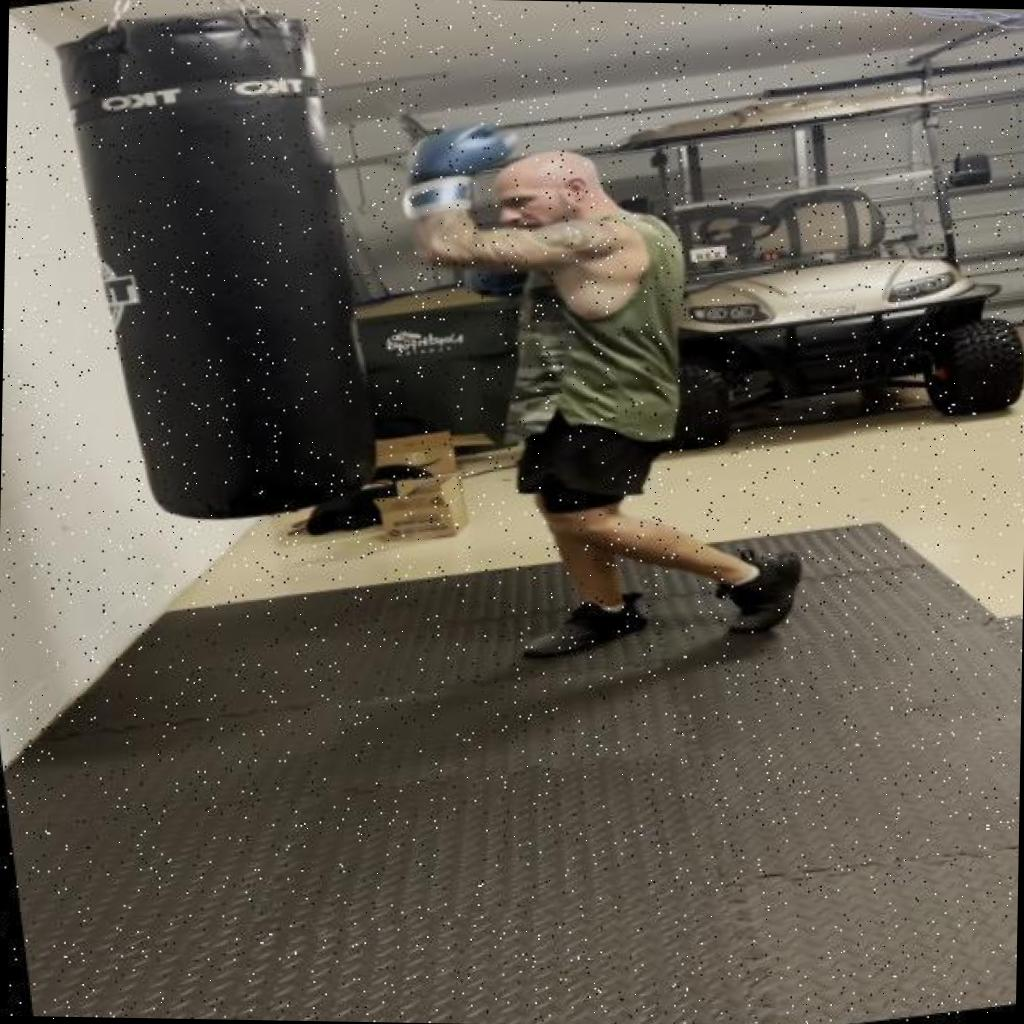bag: (62, 0, 389, 551)
uppercut: (370, 79, 695, 333)
